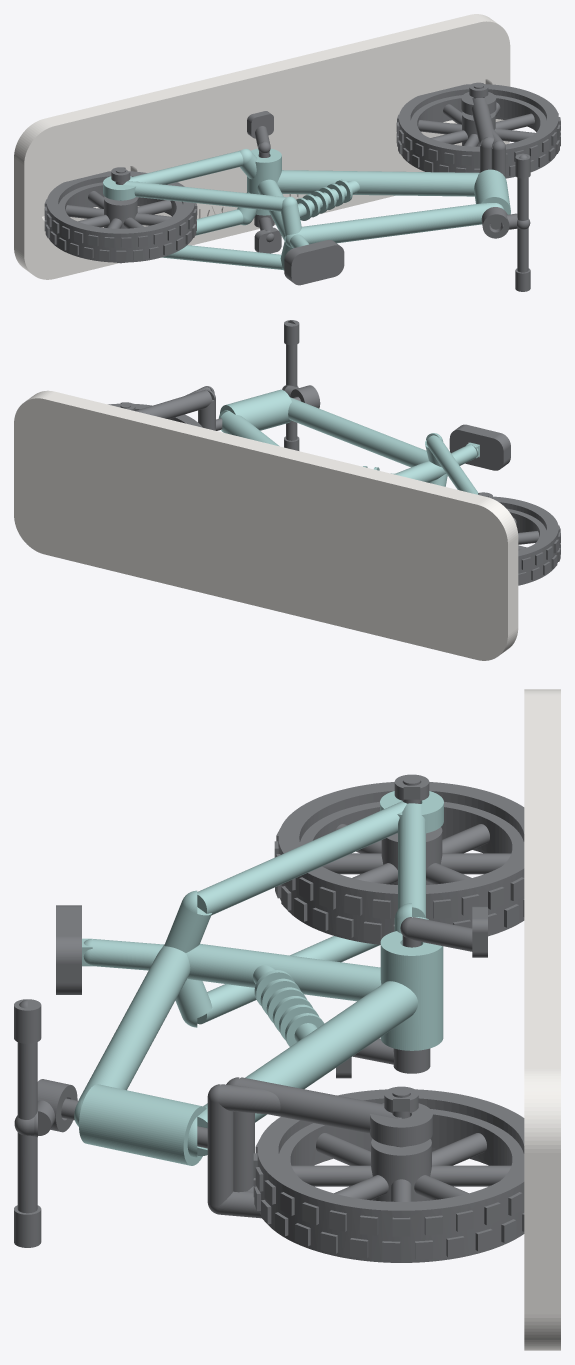
Rendered from dayrally-mini-ridge.glb.
The picture shows the model from 3 angles, top to bottom: view 1: azimuth 30°, elevation 25°; view 2: azimuth 150°, elevation 25°; view 3: azimuth 270°, elevation 25°; orthographic projection. The views are drawn at different scales.
Visible parts, largest first — view 1: mini-ridge-display-base__1, mini-ridge-frame__2, mini-wheel-27p5__11, mini-wheel-25p5__8, mini-ridge-cockpit__4, mini-ridge-saddle__5, mini-ridge-fork__3, mini-ridge-crank-r__6, mini-ridge-crank-l__7; view 2: mini-ridge-display-base__1, mini-ridge-frame__2, mini-wheel-25p5__8, mini-ridge-saddle__5, mini-ridge-cockpit__4, mini-ridge-fork__3; view 3: mini-ridge-frame__2, mini-wheel-27p5__11, mini-wheel-25p5__8, mini-ridge-display-base__1, mini-ridge-fork__3, mini-ridge-cockpit__4, mini-ridge-crank-r__6, mini-ridge-saddle__5, mini-ridge-crank-l__7.
Part boxes in pixels (<box>): mini-ridge-display-base__1: <box>14,14,510,279</box>; mini-ridge-frame__2: <box>103,148,510,270</box>; mini-wheel-27p5__11: <box>396,84,560,178</box>; mini-wheel-25p5__8: <box>44,171,197,262</box>; mini-ridge-cockpit__4: <box>481,153,530,291</box>; mini-ridge-saddle__5: <box>284,240,344,285</box>; mini-ridge-fork__3: <box>461,92,505,229</box>; mini-ridge-crank-r__6: <box>247,111,273,157</box>; mini-ridge-crank-l__7: <box>254,214,281,253</box>; mini-ridge-display-base__1: <box>14,390,518,660</box>; mini-ridge-frame__2: <box>218,389,479,494</box>; mini-wheel-25p5__8: <box>493,496,560,585</box>; mini-ridge-saddle__5: <box>449,424,510,470</box>; mini-ridge-cockpit__4: <box>282,320,320,450</box>; mini-ridge-fork__3: <box>135,386,300,430</box>; mini-ridge-frame__2: <box>74,791,443,1165</box>; mini-wheel-27p5__11: <box>253,1089,524,1262</box>; mini-wheel-25p5__8: <box>274,782,524,944</box>; mini-ridge-display-base__1: <box>524,689,560,1350</box>; mini-ridge-fork__3: <box>61,1077,432,1218</box>; mini-ridge-cockpit__4: <box>14,999,77,1247</box>; mini-ridge-crank-r__6: <box>400,906,487,957</box>; mini-ridge-saddle__5: <box>56,905,81,994</box>; mini-ridge-crank-l__7: <box>336,1038,430,1078</box>.
Size of the model in its own units: 0.1955 by 0.058 by 0.1044.
